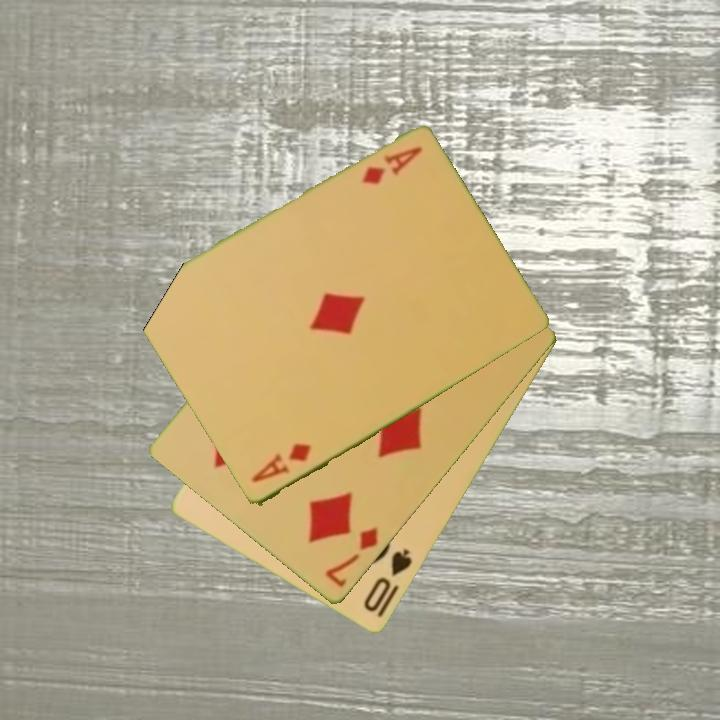10s: (360, 545, 415, 616)
7d: (321, 524, 381, 591)
Ad: (247, 440, 314, 487), (358, 143, 426, 188)
